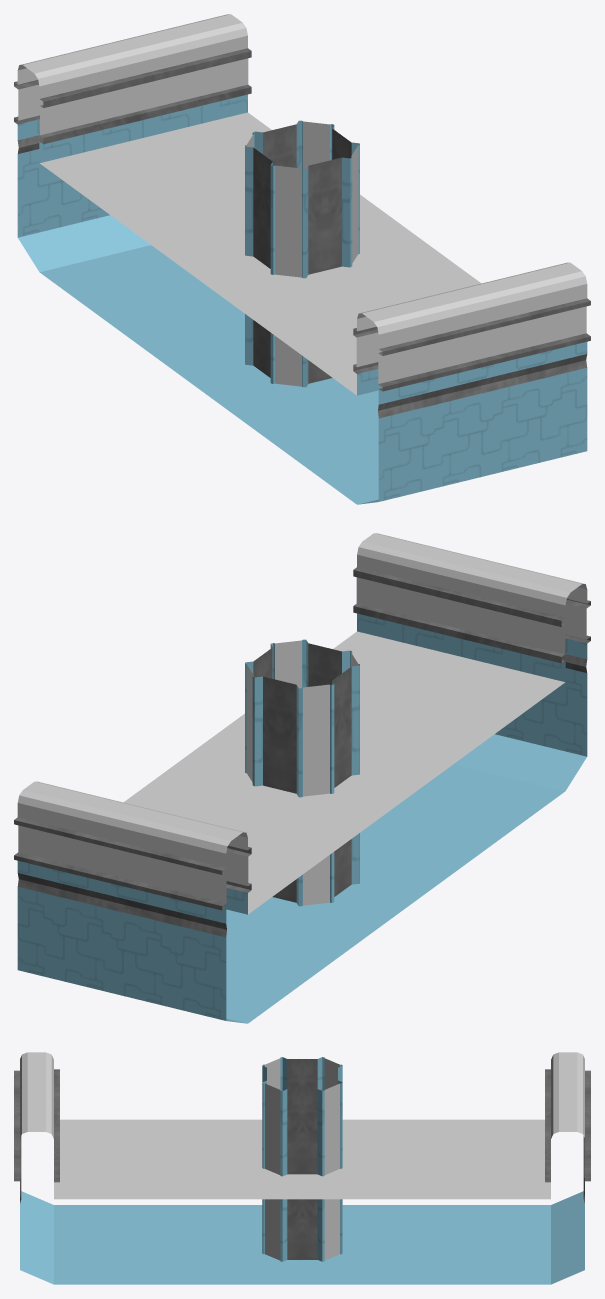
File: Puente.fbx
The picture shows the model from 3 angles, top to bottom: view 1: azimuth 30°, elevation 25°; view 2: azimuth 150°, elevation 25°; view 3: azimuth 270°, elevation 25°; orthographic projection. The views are drawn at different scales.
Visible parts, largest first — view 1: Puente_Camino, Puente_Columna; view 2: Puente_Camino, Puente_Columna; view 3: Puente_Camino, Puente_Columna.
Part boxes in pixels (<box>): Puente_Camino: <box>14,14,590,504</box>; Puente_Columna: <box>245,120,359,387</box>; Puente_Camino: <box>14,533,590,1023</box>; Puente_Columna: <box>245,639,359,906</box>; Puente_Camino: <box>14,1052,590,1284</box>; Puente_Columna: <box>262,1057,342,1261</box>.
Size of what is drawn, in the model's own units: 400 by 400 by 1225.
